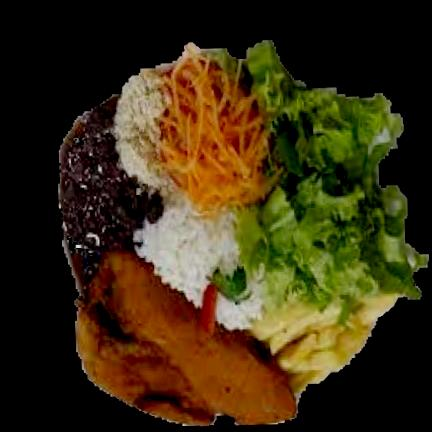beans: (62, 99, 161, 256)
carrot: (160, 51, 269, 218)
chicken: (78, 252, 296, 425)
potato: (252, 297, 397, 394)
rice: (134, 199, 239, 308), (218, 289, 263, 330)
salad: (238, 43, 428, 318)
